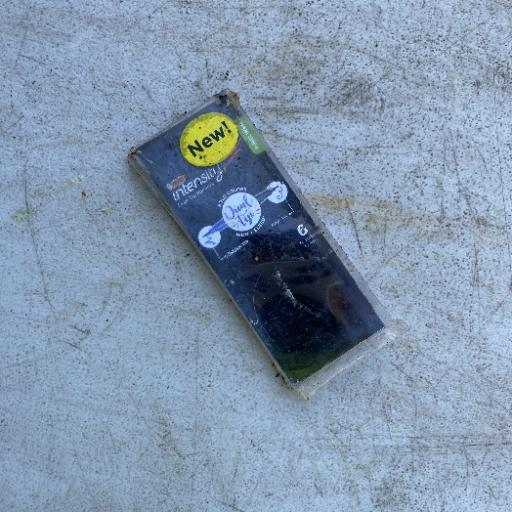Plastic: (125, 87, 397, 403)
